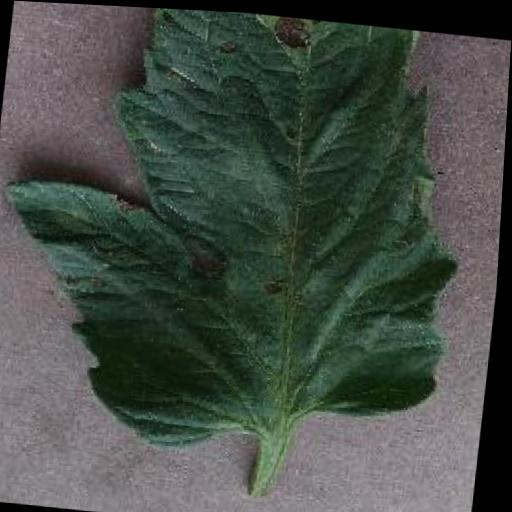Early Blight: (0, 0, 483, 473)
